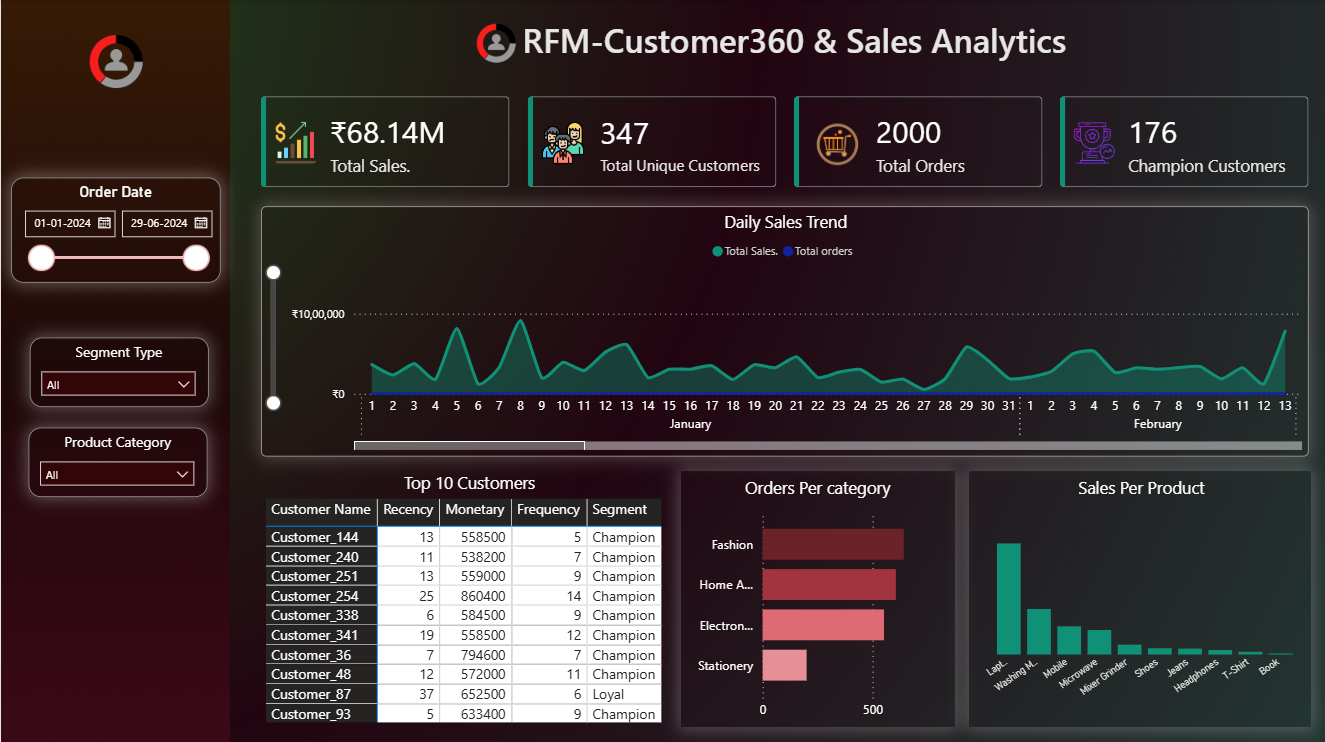

This screenshot's page, from the dashboard's own definition file:
{"tool":"powerbi","page":{"name":"Dashboard","canvas":[1280,720],"ordinal":0},"visuals":[{"type":"textbox","box":[481.2,12.5,568.8,60],"z":1000},{"type":"image","box":[453.8,22.5,48.8,37.5],"z":2000},{"type":"image","box":[78.8,33.8,65,51.2],"z":3000},{"type":"slicer","title":"Order Date","fields":{"Values":["Sales.Date"]},"box":[10,171.2,202.5,101.2],"z":4000},{"type":"slicer","title":"Segment Type","fields":{"Values":["rfm_customer360.Segment"]},"box":[27.5,326.2,172.5,67.5],"z":5000},{"type":"slicer","title":"Product Category","fields":{"Values":["Sales.Category"]},"box":[27,412.5,172.5,67.5],"z":6000},{"type":"cardVisual","fields":{"Data":["Sales.Total Sales.","Sales.Total Customers","CountNonNull(Sales.Order ID)","rfm_customer360.Champion Count"]},"box":[233.8,76.2,1046.2,122.5],"z":7000},{"type":"clusteredBarChart","title":"Orders Per category","fields":{"Category":["Sales.Category"],"Y":["CountNonNull(Sales.Order ID)"]},"box":[656.2,455,263.8,247.5],"z":8000},{"type":"lineChart","title":"Daily Sales Trend","fields":{"Y":["Sales.Total Sales.","CountNonNull(Sales.Order ID)"],"Category":["Sales.Date.Variation.Date Hierarchy.Month","Sales.Date.Variation.Date Hierarchy.Day"]},"box":[251.2,198.8,1011.2,241.2],"z":9000},{"type":"pivotTable","title":"Top 10 Customers","fields":{"Rows":["rfm_customer360.Customer Name"],"Values":["Sum(rfm_customer360.recency)","Sum(rfm_customer360.Monetary)","Sum(rfm_customer360.Frequency)","Min(rfm_customer360.Segment)"]},"box":[251.2,455,402.5,263.8],"z":10000},{"type":"columnChart","title":"Sales Per Product","fields":{"Category":["Sales.Product Name"],"Y":["Sales.Total Sales."]},"box":[933.8,455,330,247.5],"z":11000}]}

Visuals, with their boxes in screenshot pixels (x1, y1, x2, y2), scaled from the page's 1280x720 canvas onto the 1325x742 screenshot:
textbox: 498,13,1087,75
image: 470,23,520,62
image: 82,35,149,88
"Order Date" slicer: 10,176,220,281
"Segment Type" slicer: 28,336,207,406
"Product Category" slicer: 28,425,207,495
cardVisual - Sales.Total Sales. x Sales.Total Customers: 242,79,1324,205
"Orders Per category" clusteredBarChart: 679,469,952,724
"Daily Sales Trend" lineChart: 260,205,1307,453
"Top 10 Customers" pivotTable: 260,469,677,741
"Sales Per Product" columnChart: 967,469,1308,724
